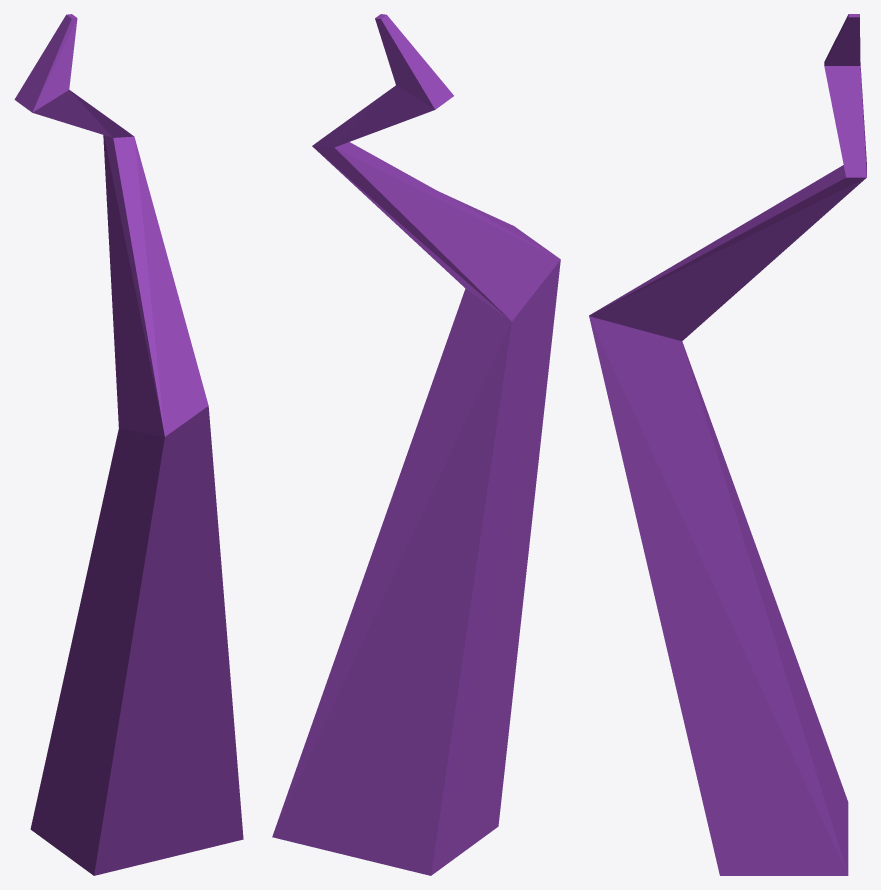
The model's file is MassiveBullet_Tentacle_3.dae.
3 renders of one model, left to right at view 1: azimuth 30°, elevation 25°; view 2: azimuth 150°, elevation 25°; view 3: azimuth 270°, elevation 25°, orthographic. The views are drawn at different scales.
Visible parts, largest first — view 1: Cube; view 2: Cube; view 3: Cube.
Part boxes in pixels (x1,y1,x2,y2): Cube: [14, 14, 243, 875]; Cube: [272, 14, 560, 875]; Cube: [589, 14, 866, 875].
Size of the model in its own units: 1.75 by 2.62 by 8.4.
